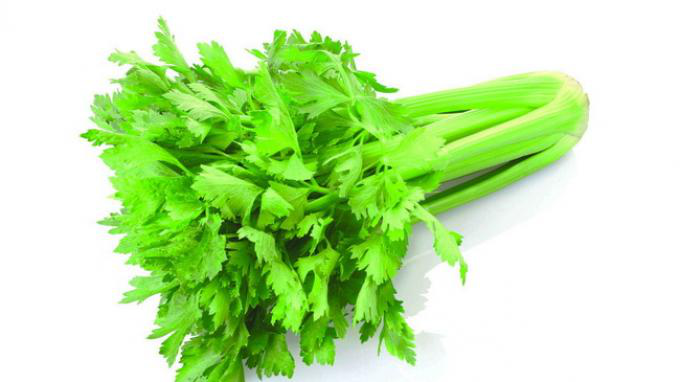Seledri: (53, 13, 663, 378)
